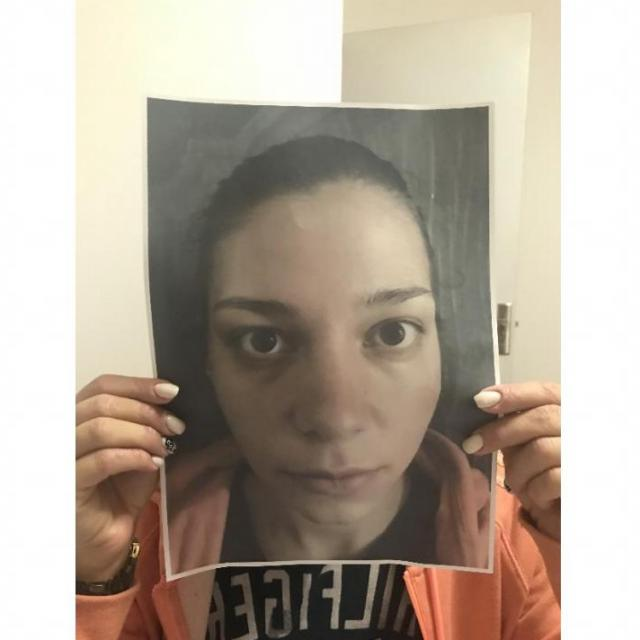photo: (134, 96, 506, 593)
